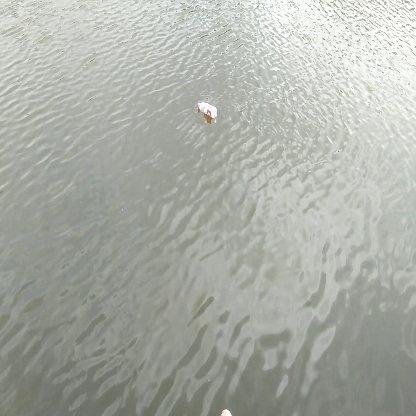bottle: (195, 100, 223, 121)
